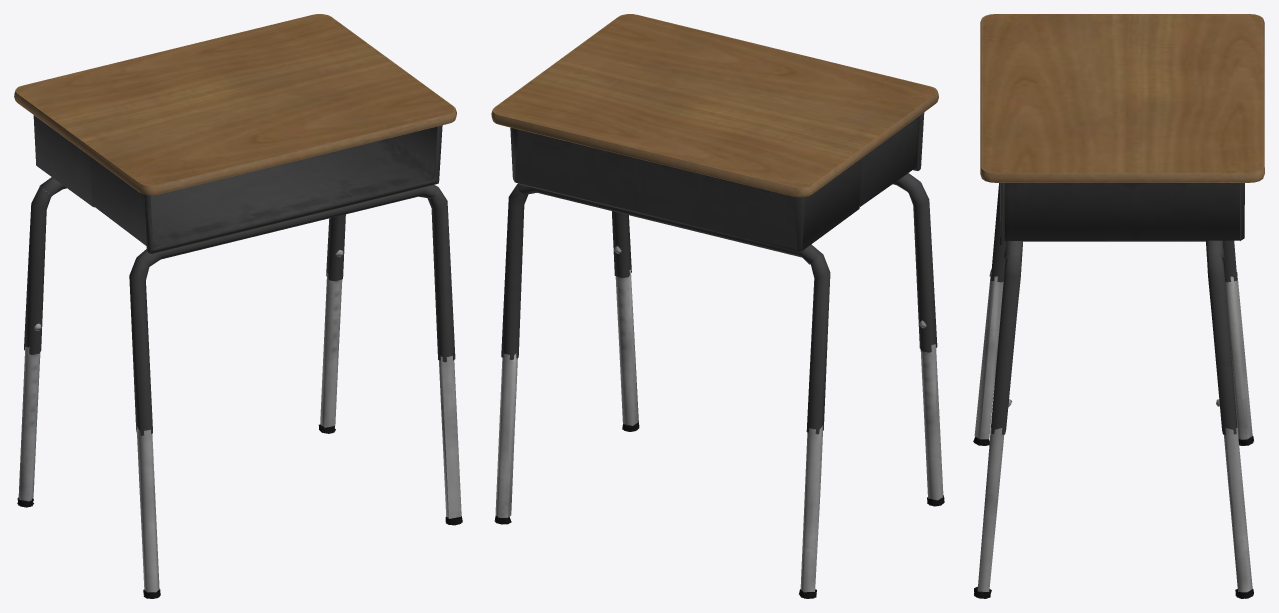
File: school_desk.glb
3 views of the same model, side by side, from view 1: azimuth 30°, elevation 25°; view 2: azimuth 150°, elevation 25°; view 3: azimuth 270°, elevation 25° (orthographic). The views are drawn at different scales.
Parts seen in each view (by area): view 1: school_desk; view 2: school_desk; view 3: school_desk.
Boxes of the visible parts, x1,y1,x2,y2 form: school_desk: (14,14,462,598); school_desk: (491,14,944,598); school_desk: (973,14,1264,598).
Size of the model in its own units: 0.714 by 0.8822 by 0.5476.
1 material, 1 textured.
